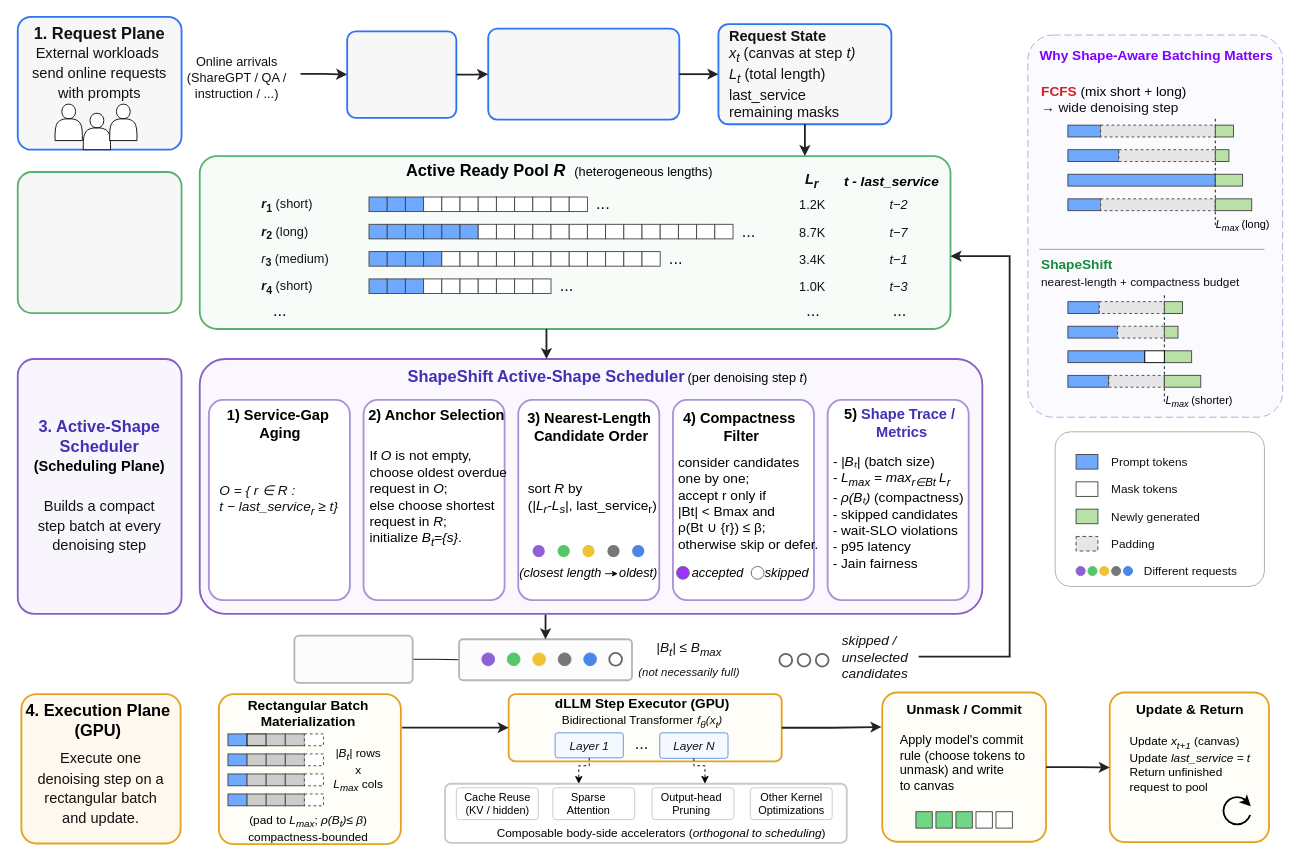
Some shapes in this 1299 by 866 pixel diagram are drawn without their labels. Each missing label, with the centre of its shape:
2. State Plane (Active Ready Pool) Active pool of heterogeneous request lengths: [99,242]
Admission / Tokenizer: [401,74]
Canvas Builder L = P + G prompt + generation: [583,73]
Step Batch B t selected requests: [353,658]
